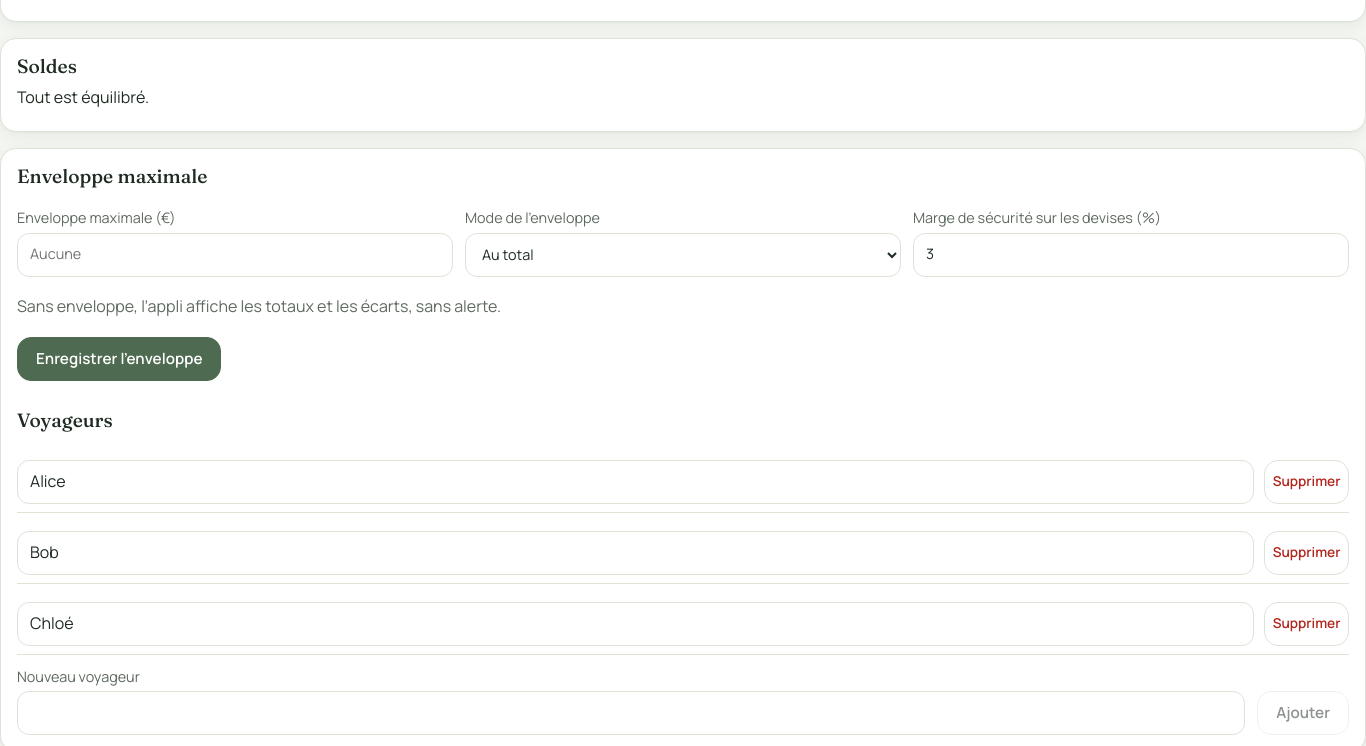
Test: BudgetTab — recalcul automatique › recalcule les lignes « par personne et par jour » quand le groupe ou les dates changent
(page scrolled)
Type "Dan" into the field labelled "Nouveau voyageur" at (631, 713), box [17,691,1245,735]
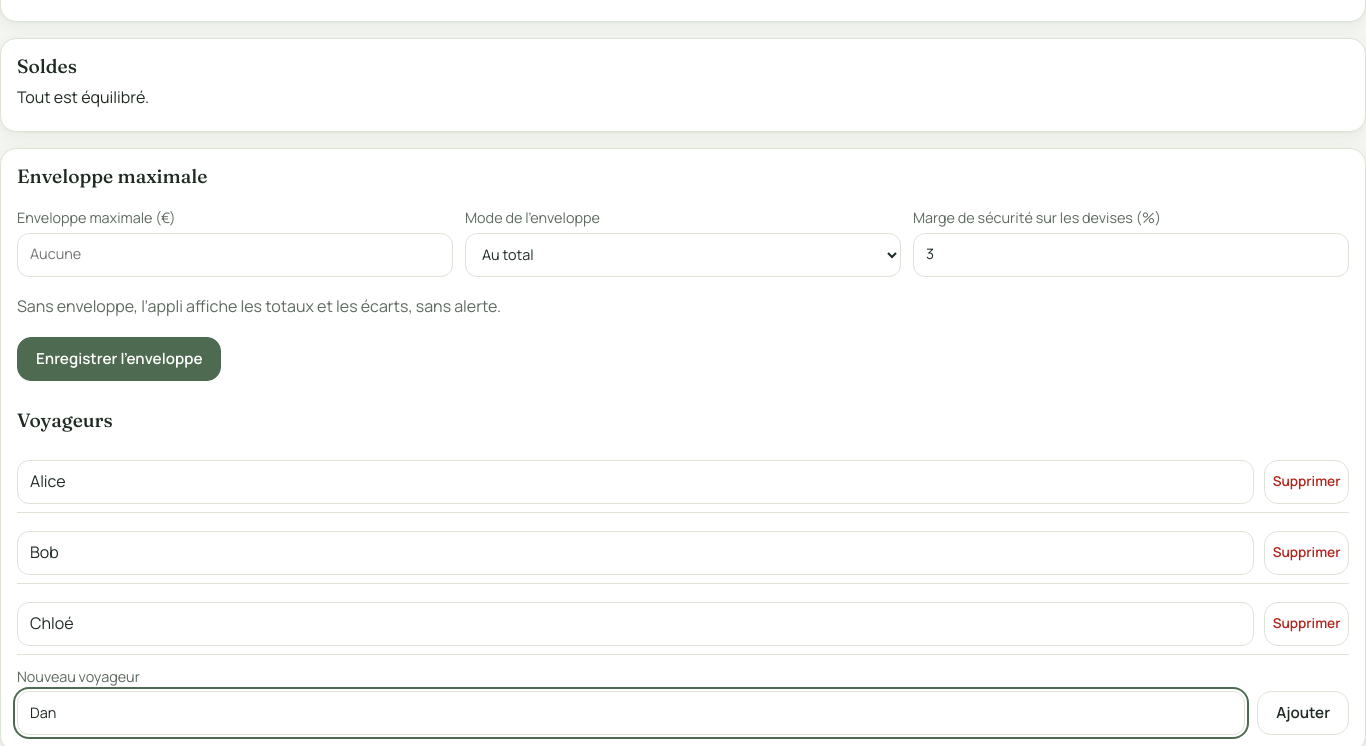
Click the button "Ajouter" at (1303, 713), box [1257,691,1349,735]
(page scrolled)
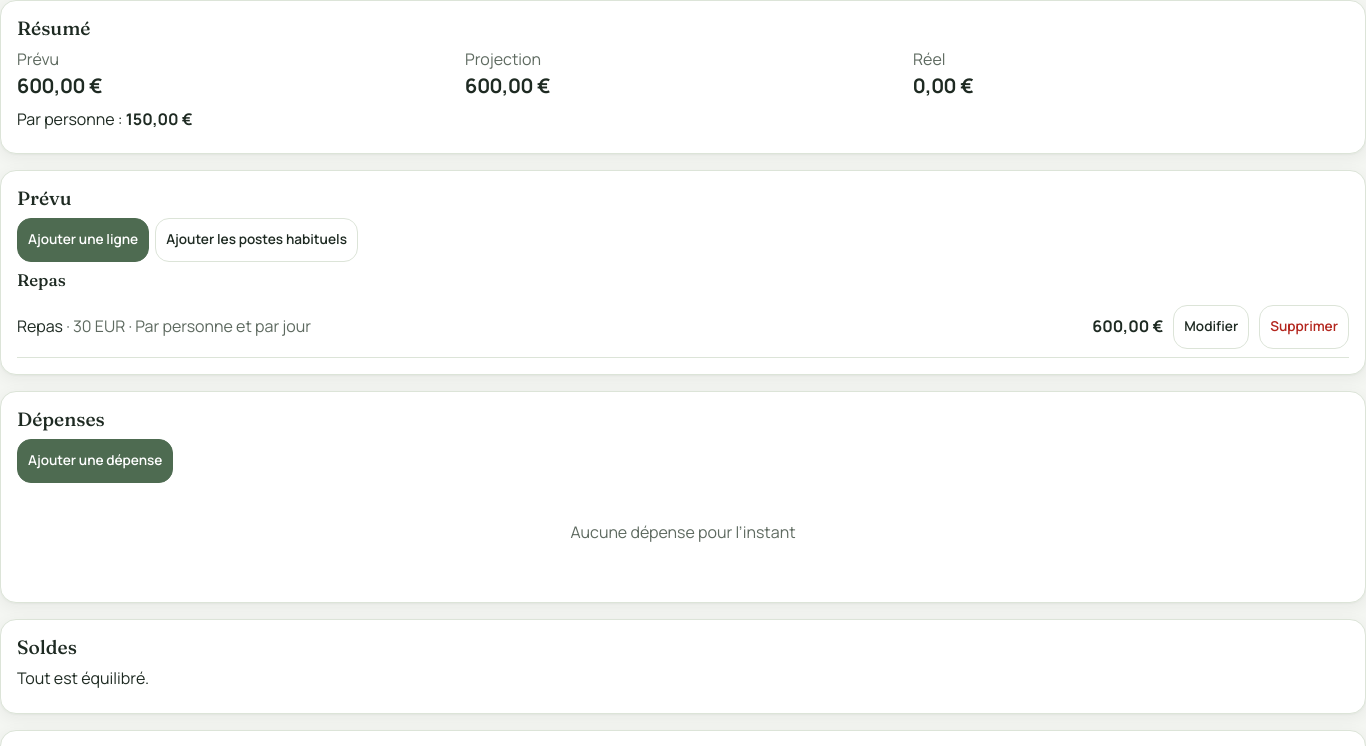
Expected: the text with test id "planned-total" shows "600,00", [17,72,103,99]
